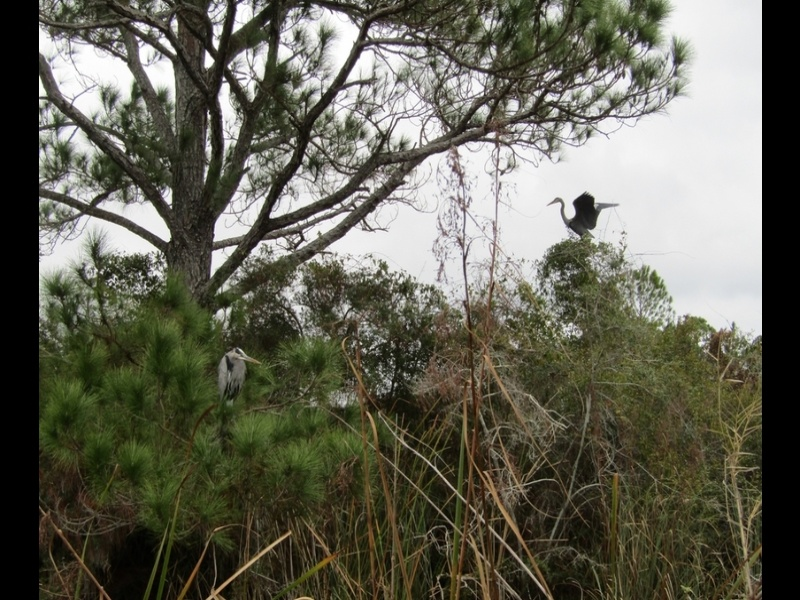heron: (548, 195, 618, 246), (217, 345, 259, 418)
